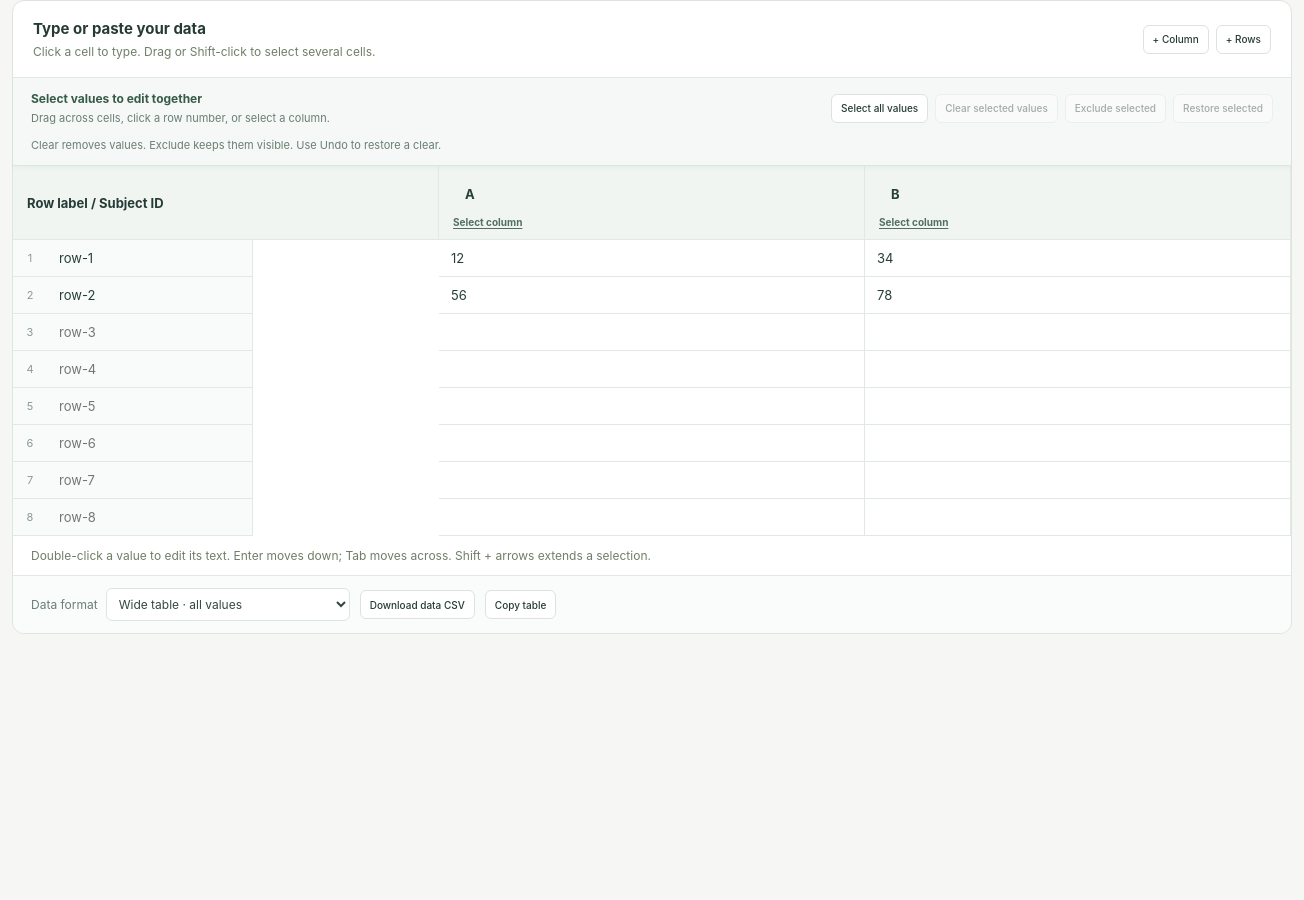
Scenario: keeps ordinary text editing and native text shortcuts separate from range commands
Later steps or results of the test are not shown.
Press the mouse on the field named "A, row 1" at (652, 258), box [439, 240, 864, 276]
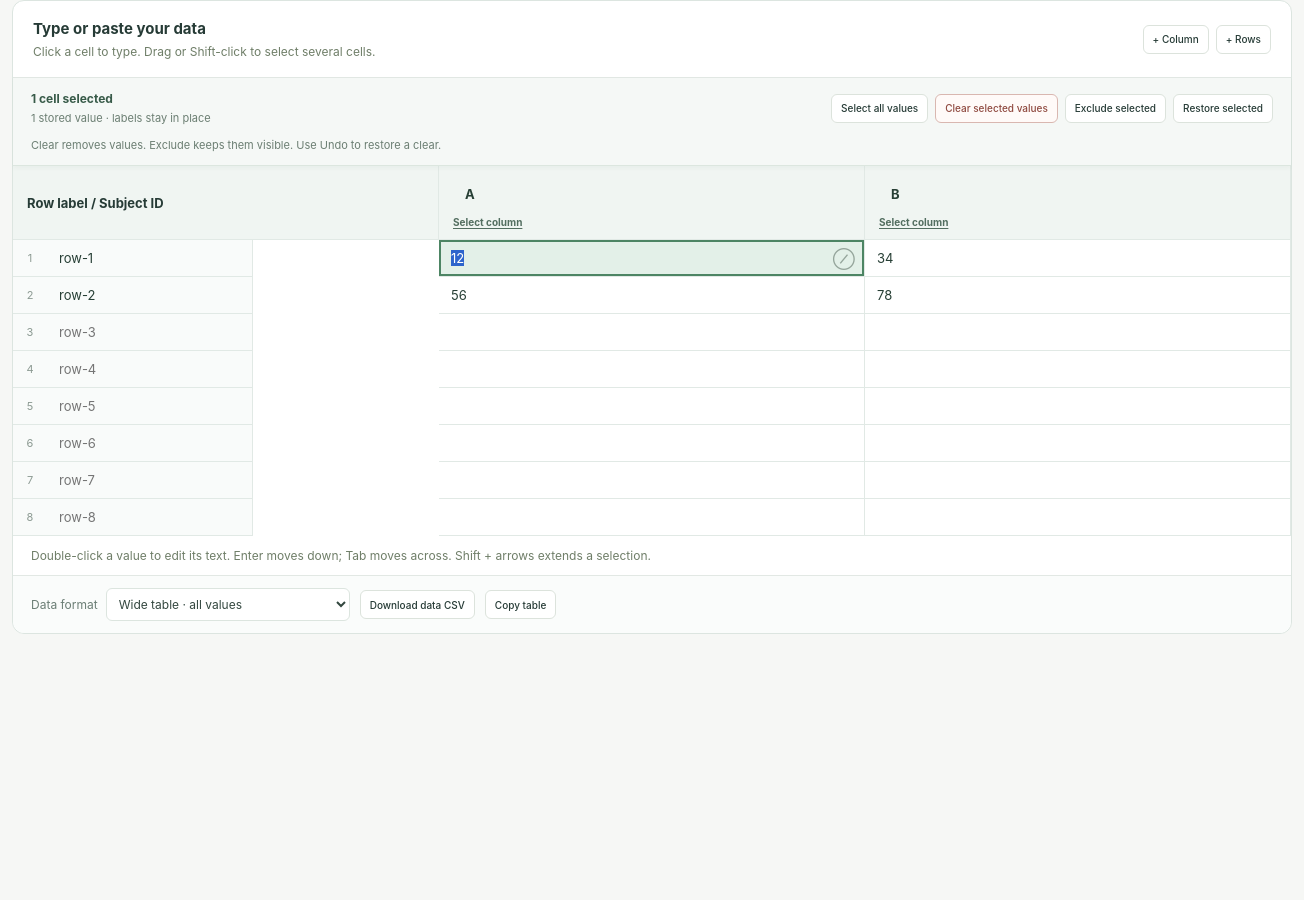
Press ArrowRight in the field named "A, row 1", box [439, 240, 864, 276]
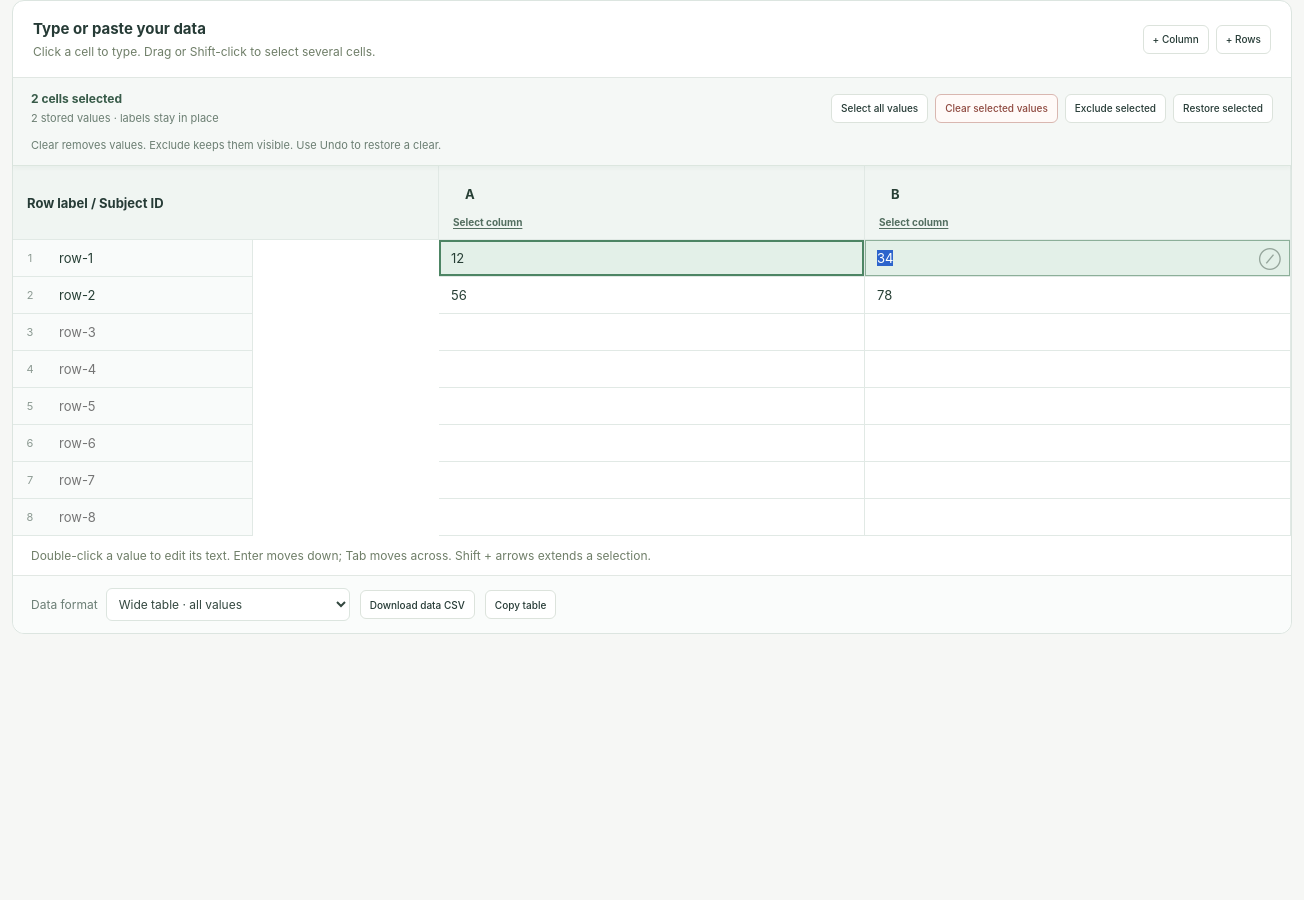
Result: the text "2 cells selected" is shown at [31, 91, 122, 106]
